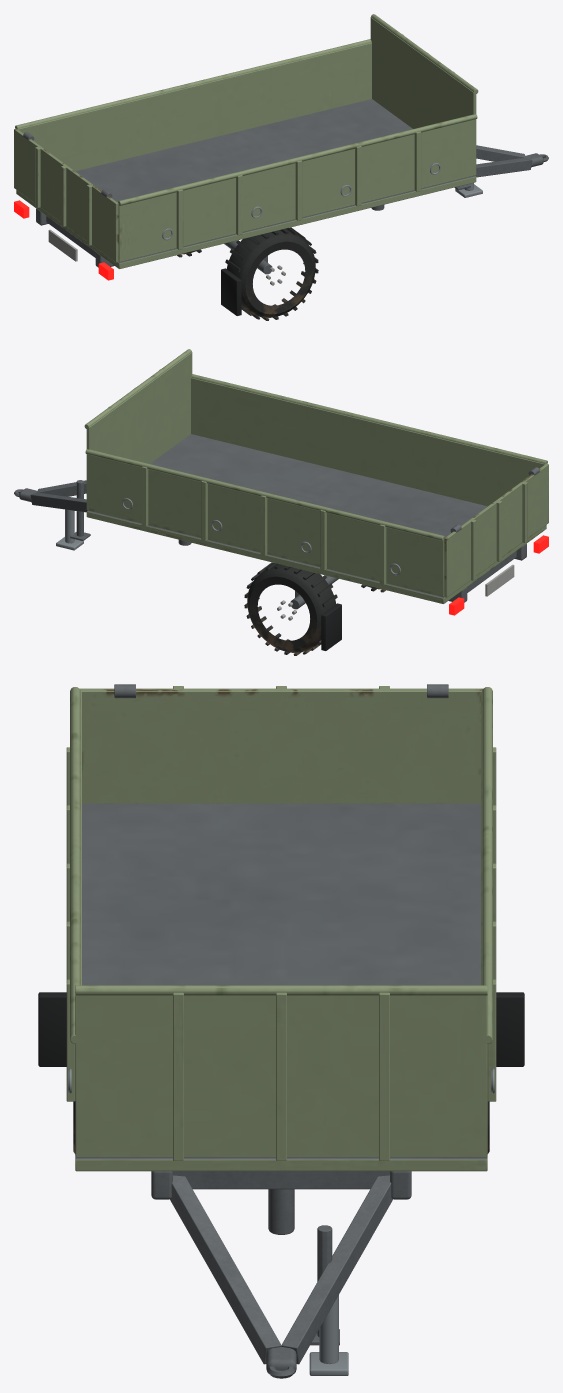
The model's file is trailer_rusty.glb.
The picture shows the model from 3 angles, top to bottom: view 1: azimuth 30°, elevation 25°; view 2: azimuth 150°, elevation 25°; view 3: azimuth 270°, elevation 25°; orthographic projection. The views are drawn at different scales.
Visible parts, largest first — view 1: Bed, Tailgate, Wheel1_Tyre, Chassis, Clean mud flap, TailLamps, Plate; view 2: Bed, Tailgate, Wheel0_Tyre, Chassis, Clean mud flap.001, TailLamps, Plate; view 3: Bed, Tailgate, Chassis, Clean mud flap, Clean mud flap.001, Clean parking jack.
Part boxes in pixels (<box>): Bed: <box>15,14,478,268</box>; Tailgate: <box>14,128,118,262</box>; Wheel1_Tyre: <box>225,227,318,320</box>; Chassis: <box>36,145,543,274</box>; Clean mud flap: <box>221,268,241,315</box>; TailLamps: <box>14,200,113,280</box>; Plate: <box>48,229,77,261</box>; Bed: <box>84,349,547,603</box>; Tailgate: <box>444,463,548,597</box>; Wheel0_Tyre: <box>244,562,337,655</box>; Chassis: <box>19,480,526,609</box>; Clean mud flap.001: <box>321,603,341,650</box>; TailLamps: <box>449,535,548,615</box>; Plate: <box>485,564,514,596</box>; Bed: <box>66,687,496,1171</box>; Tailgate: <box>80,686,482,803</box>; Chassis: <box>151,1171,411,1374</box>; Clean mud flap: <box>38,992,66,1066</box>; Clean mud flap.001: <box>496,992,524,1066</box>; Clean parking jack: <box>319,1295,338,1364</box>.
Size of the model in its own units: 5.18 by 1.86 by 2.24.
12 materials, 9 textured.
